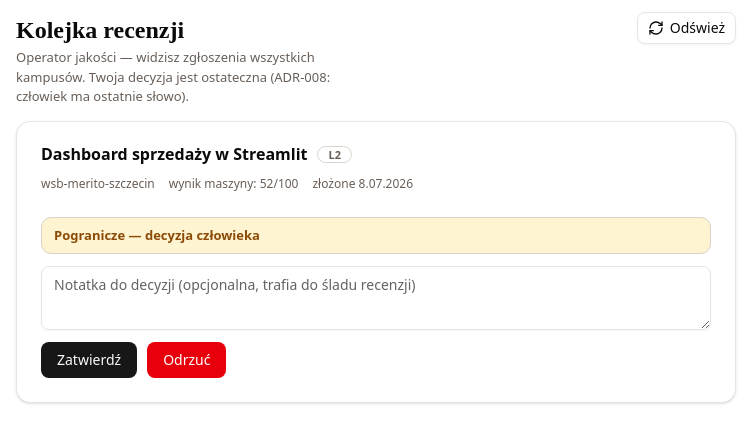
it: ReviewQueueView › Zatwierdź: POST decision z notatką, wpis znika z listy
Type "Solidna praca" into the text box with placeholder "Notatka do decyzji (opcjonalna, trafia do śladu recenzji)" at (376, 298), box [41,266,711,330]
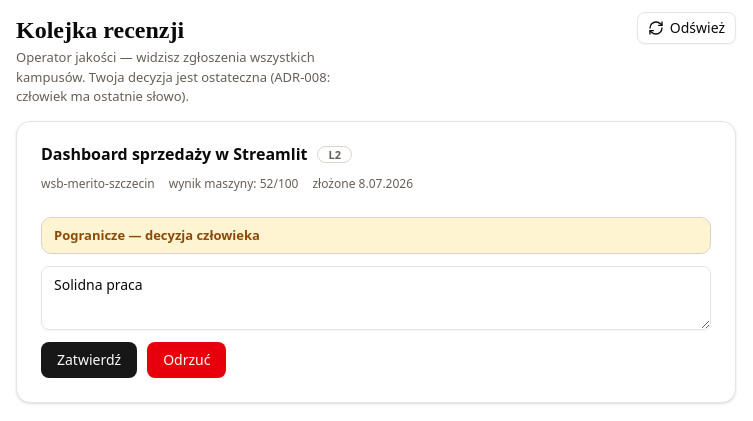
Click the button "Zatwierdź" at (89, 360), box [41,342,137,378]
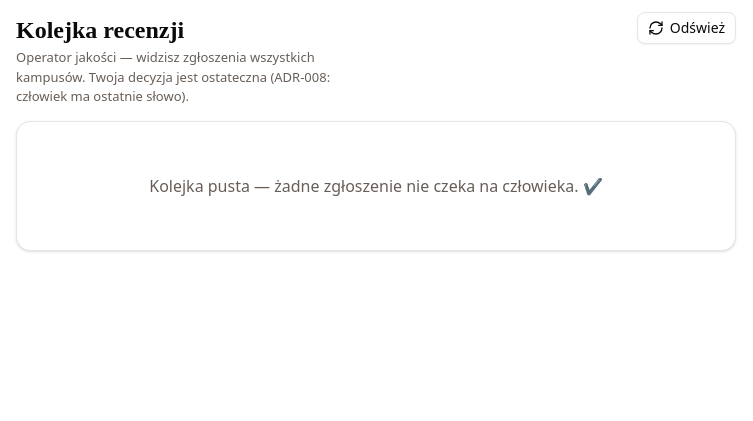
Result: the text "Dashboard sprzedaży w Streamlit" is gone
